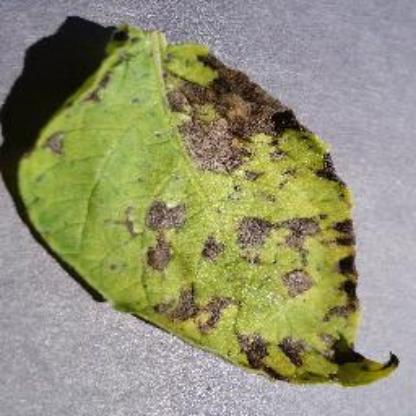Early-Blight: (14, 17, 402, 383)
